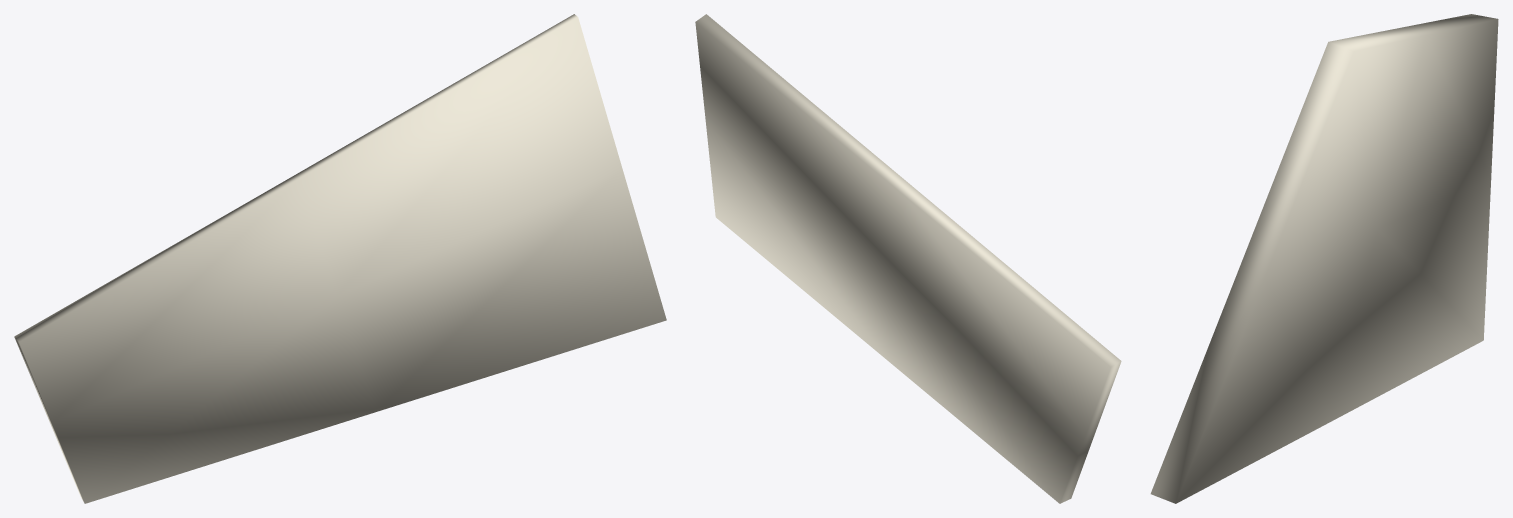
3 renders of one model, left to right at view 1: azimuth 30°, elevation 25°; view 2: azimuth 150°, elevation 25°; view 3: azimuth 270°, elevation 25°, orthographic. The views are drawn at different scales.
Visible parts, largest first — view 1: ZA_ee5019dbe021b383; view 2: ZA_ee5019dbe021b383; view 3: ZA_ee5019dbe021b383.
Boxes of the visible parts, x1,y1,x2,y2 form: ZA_ee5019dbe021b383: (14, 14, 666, 503); ZA_ee5019dbe021b383: (695, 14, 1121, 503); ZA_ee5019dbe021b383: (1150, 14, 1498, 503).
Bounding box in the file's own units: 0.0181 × 0.0128 × 0.00624.
